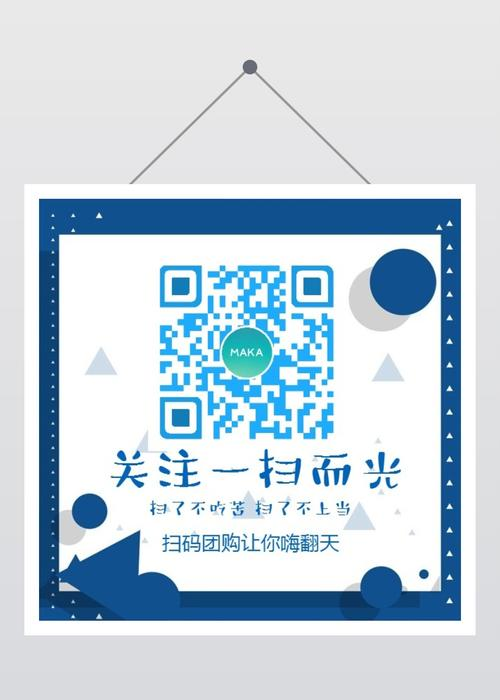QRCode: (153, 262, 342, 444)
